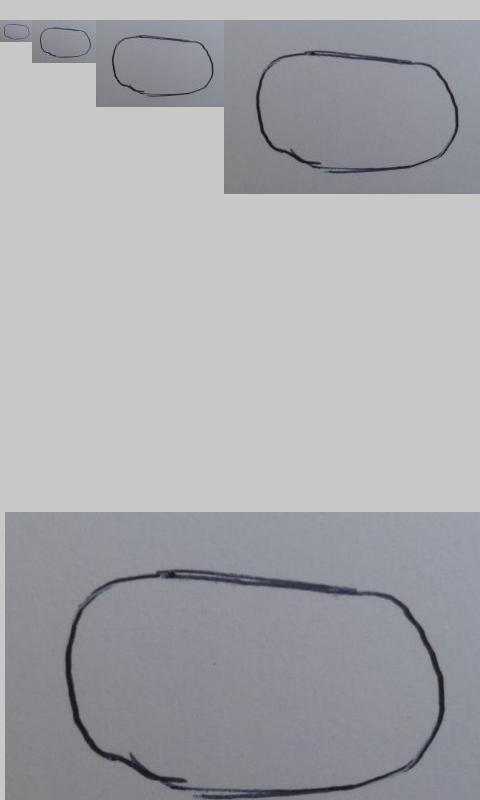chip: (64, 569, 448, 796), (256, 50, 459, 173), (112, 35, 215, 97), (40, 27, 92, 58), (3, 23, 30, 40)
